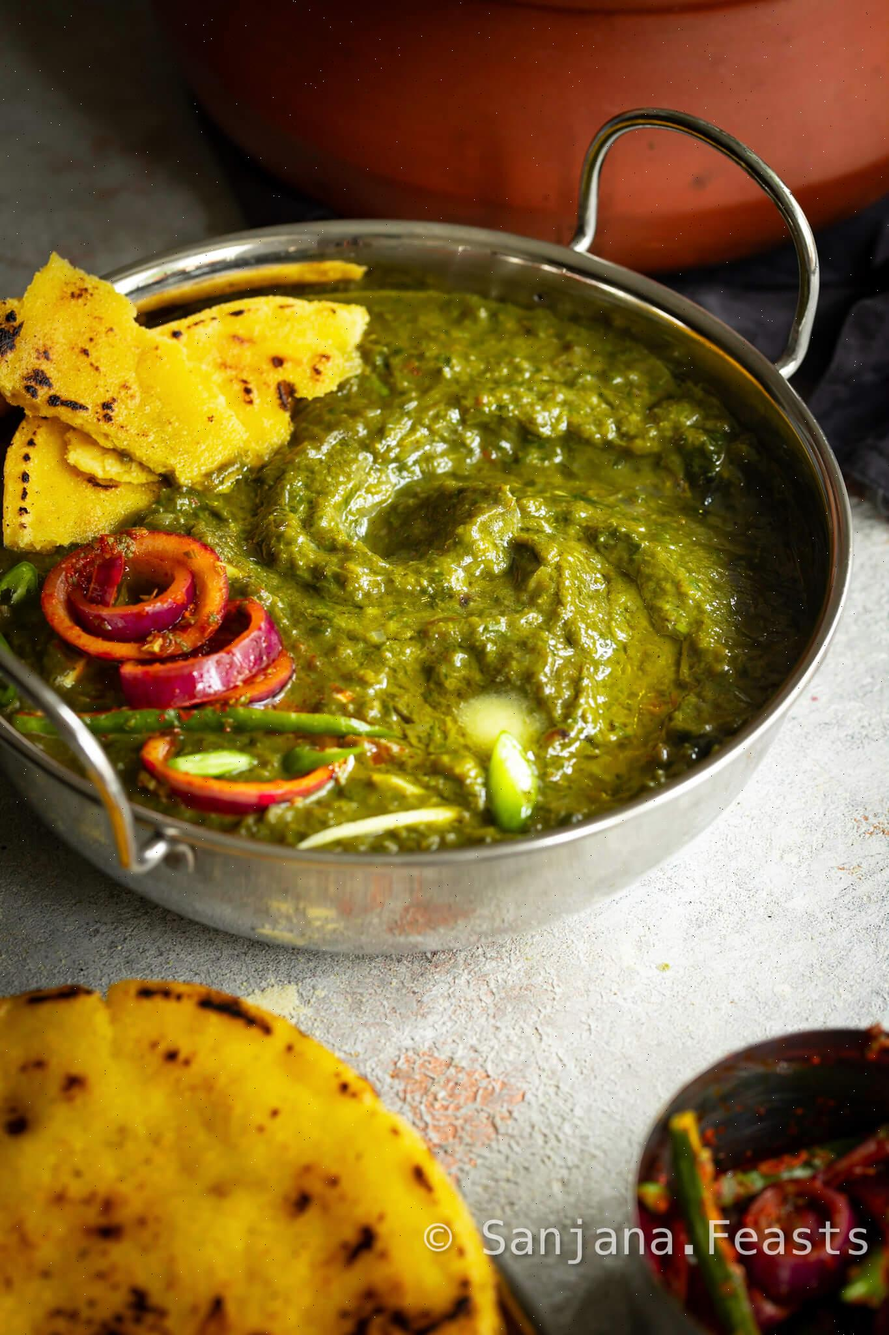saag: (0, 305, 817, 866)
